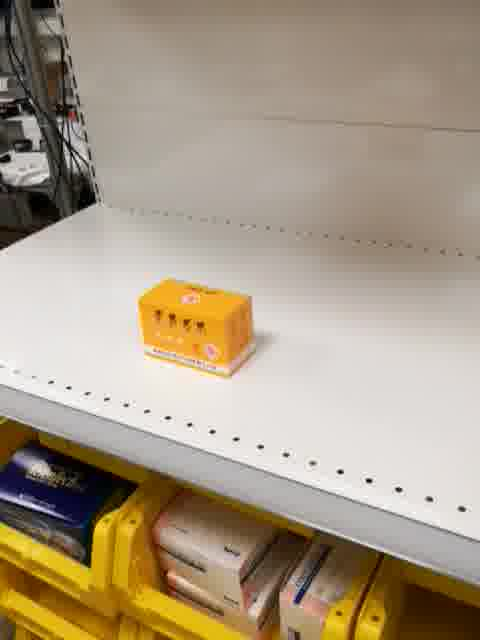jasminetea: (138, 277, 258, 381)
